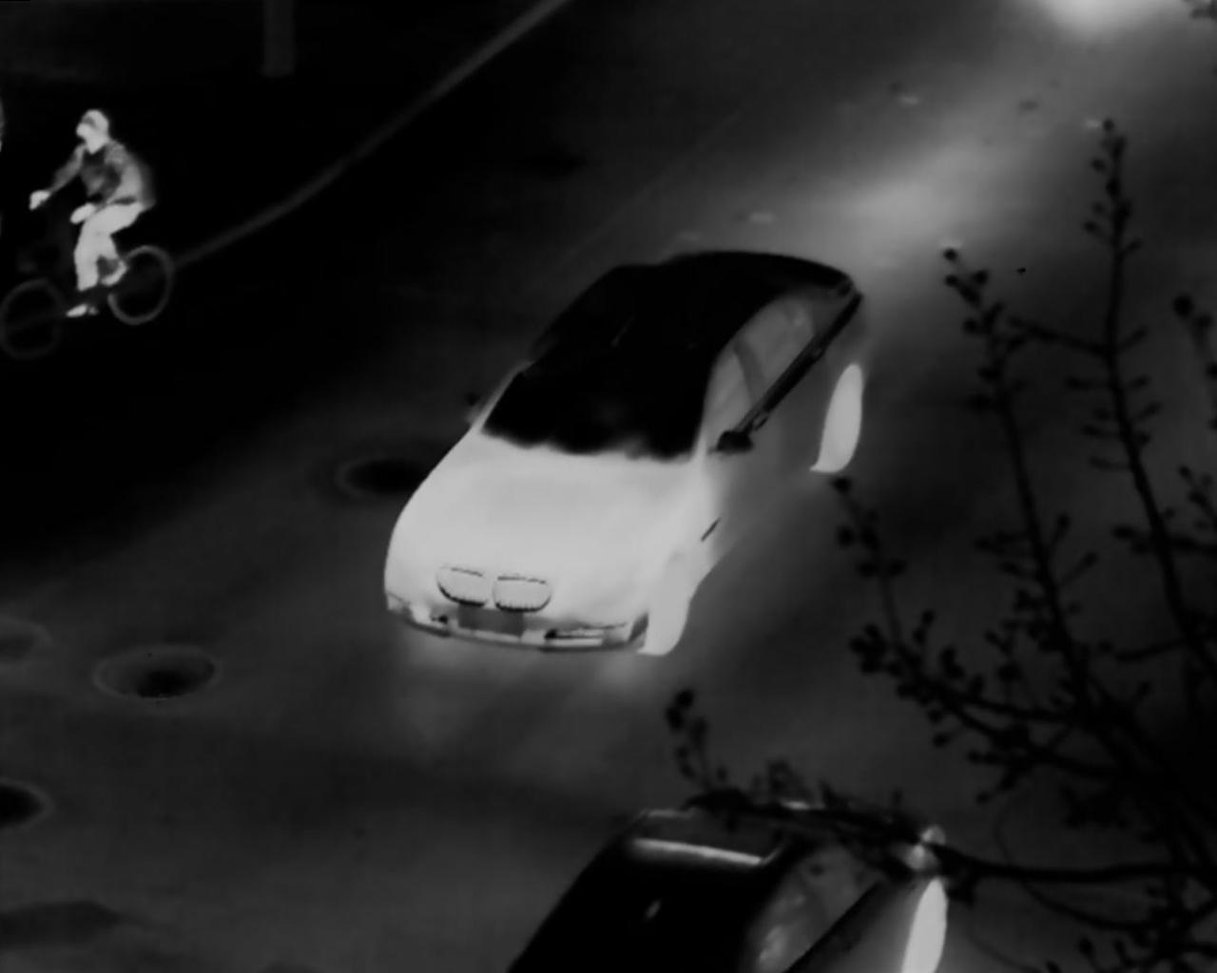person: (28, 109, 154, 317)
